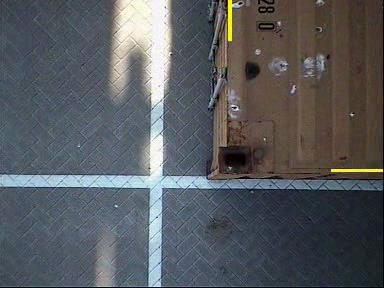groundmarker_2: (90, 128, 196, 192)
